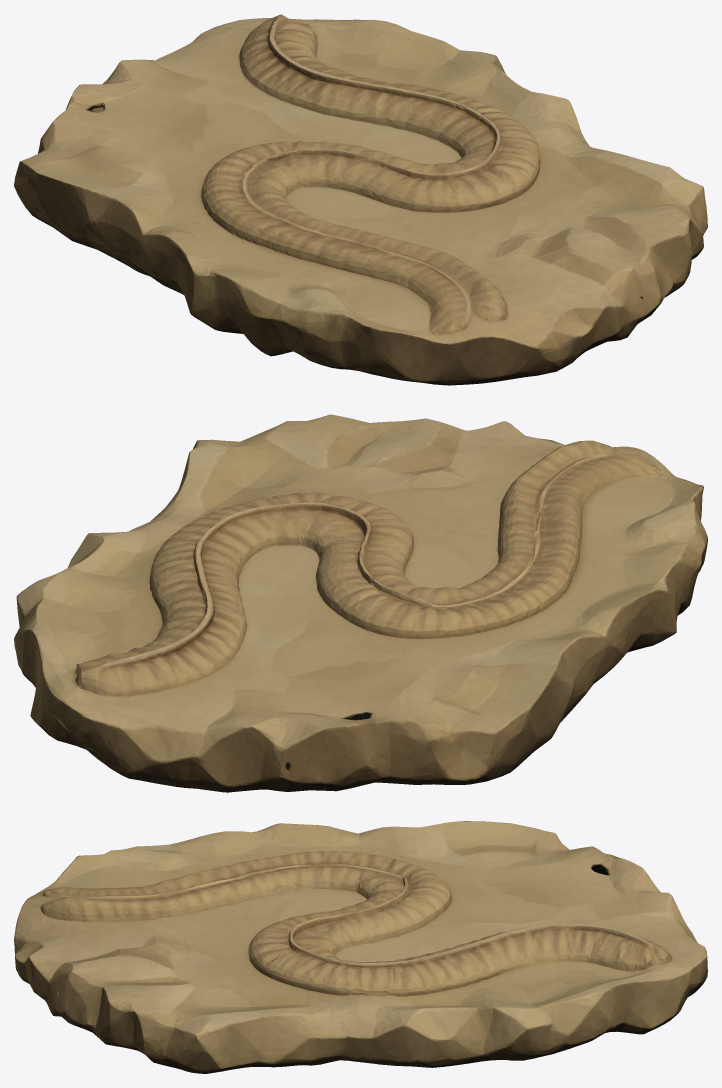
The picture shows the model from 3 angles, top to bottom: view 1: azimuth 30°, elevation 25°; view 2: azimuth 150°, elevation 25°; view 3: azimuth 270°, elevation 25°; orthographic projection. The views are drawn at different scales.
Parts seen in each view (by area): view 1: world; view 2: world; view 3: world.
Boxes of the visible parts, x1=… form: world: x1=14, y1=14, x2=707, y2=385; world: x1=14, y1=414, x2=707, y2=792; world: x1=14, y1=821, x2=707, y2=1073.
Bounding box in the file's own units: 0.2171 × 0.034 × 0.3.
1 material, 1 textured.
